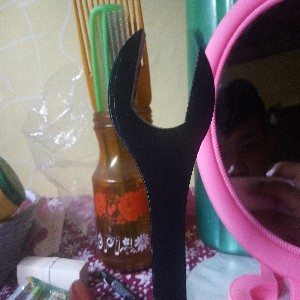spanner: (107, 27, 217, 300)
